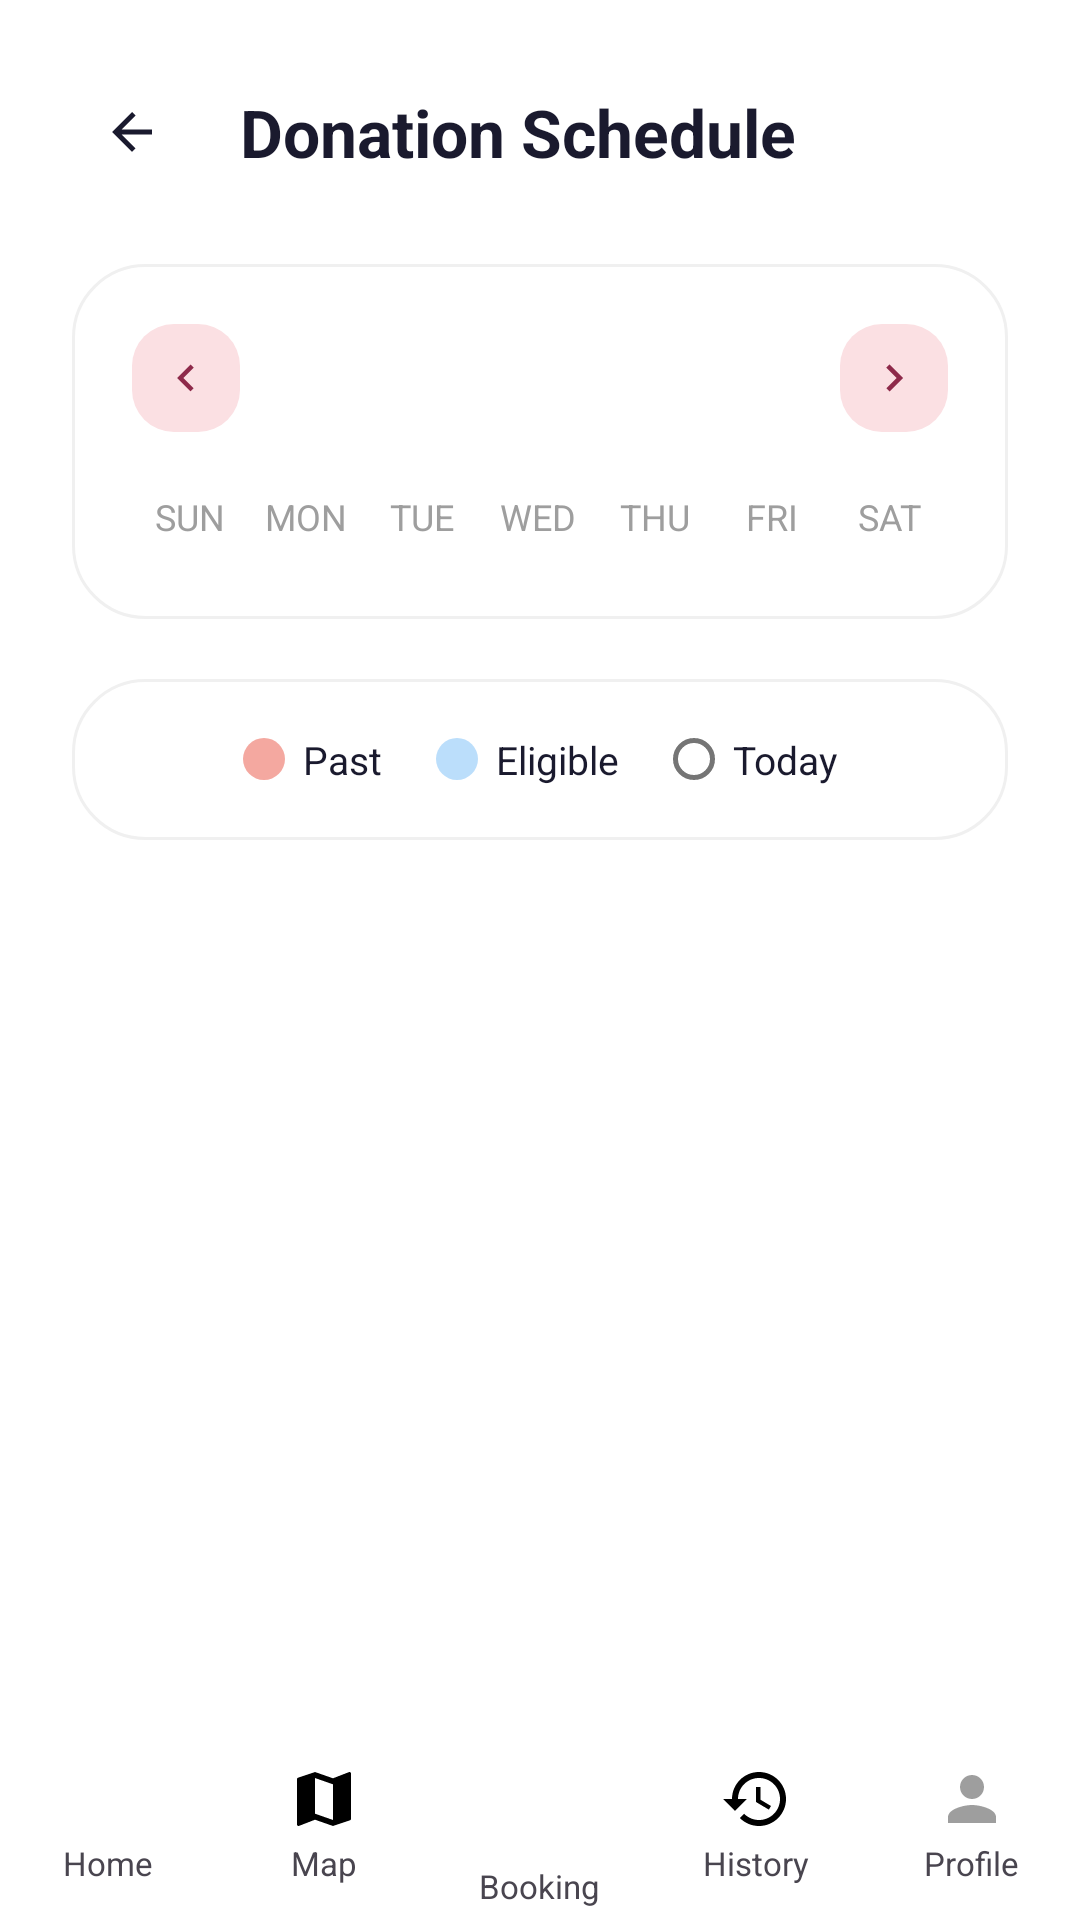

Named icons in this screenshot (1080w x 1920h) and their bounding boxes, (x1,y1,x2,y2):
back arrow: (112,112,152,152)
chevron left: (177,364,194,391)
chevron right: (886,364,903,392)
